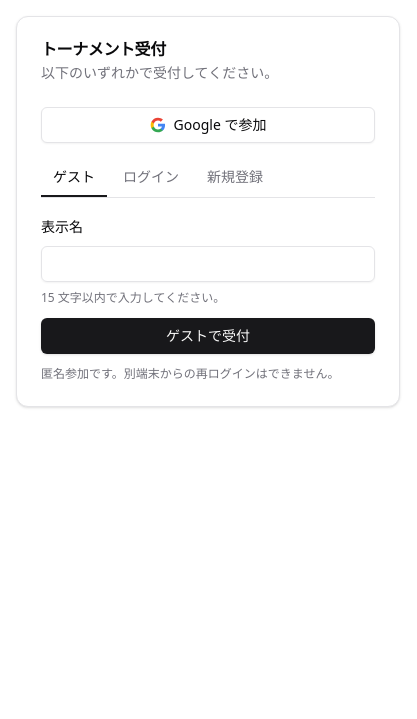
Test case: JoinClient — 新規登録タブ（08 Phase 3） › アカウント作成後に受付が失敗したら、アカウントが残っている旨と復旧手順を案内する
The image size is (417, 719).
Click the tab "新規登録" at (235, 178), box left=195, top=159, right=275, bottom=197
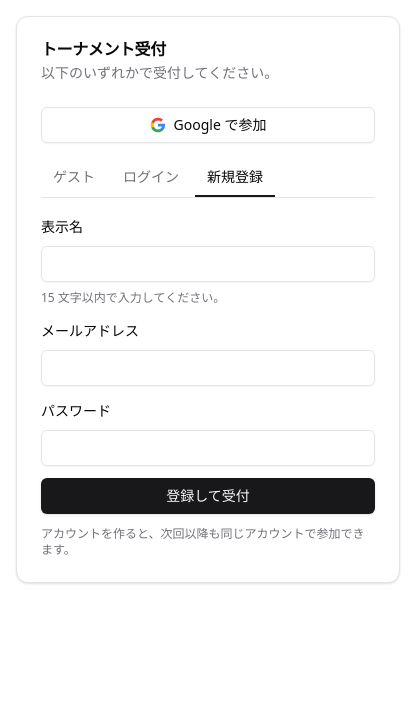
Type "Alice" into the field labelled "表示名" at (208, 264), box left=41, top=246, right=375, bottom=282
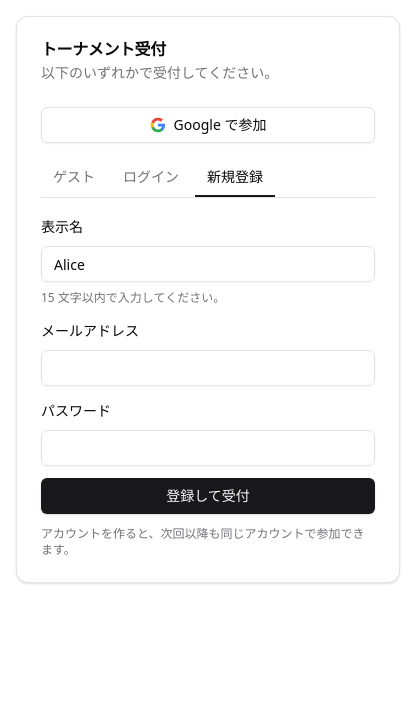
Type "alice@example.com" into the field labelled "メールアドレス" at (208, 368), box left=41, top=350, right=375, bottom=386
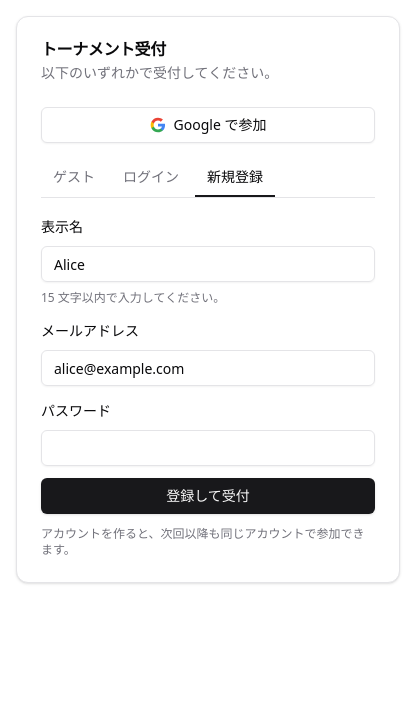
Type "pass123456" into the password field labelled "パスワード" at (208, 448), box left=41, top=430, right=375, bottom=466
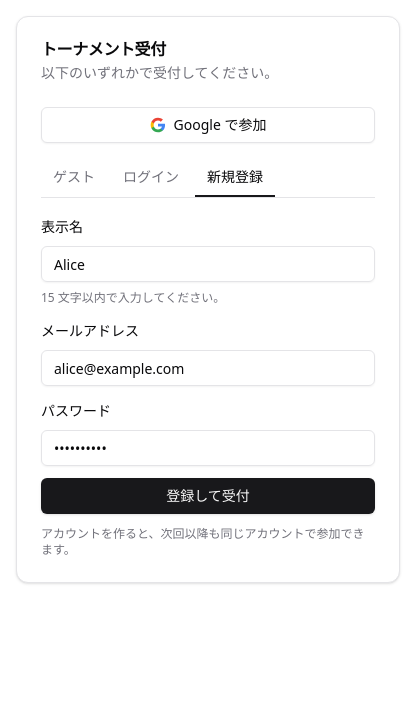
Click the button "登録して受付" at (208, 496), box left=41, top=478, right=375, bottom=514
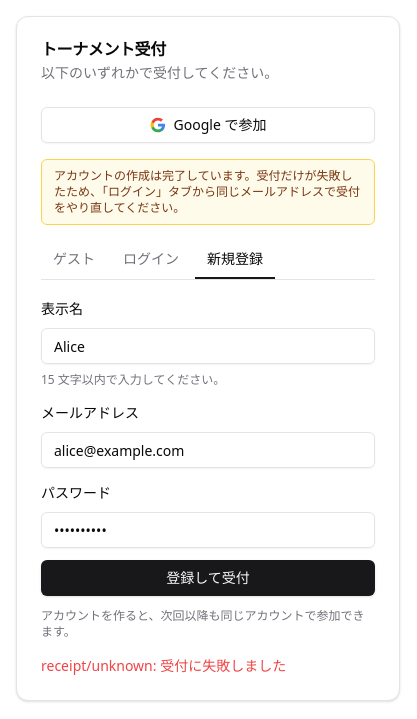
expect the text "アカウントの作成は完了しています。受付だけが失敗したため、「ログイン」タブから同じメールアドレスで受付をやり直してください。" is shown: met, box left=41, top=159, right=375, bottom=225
